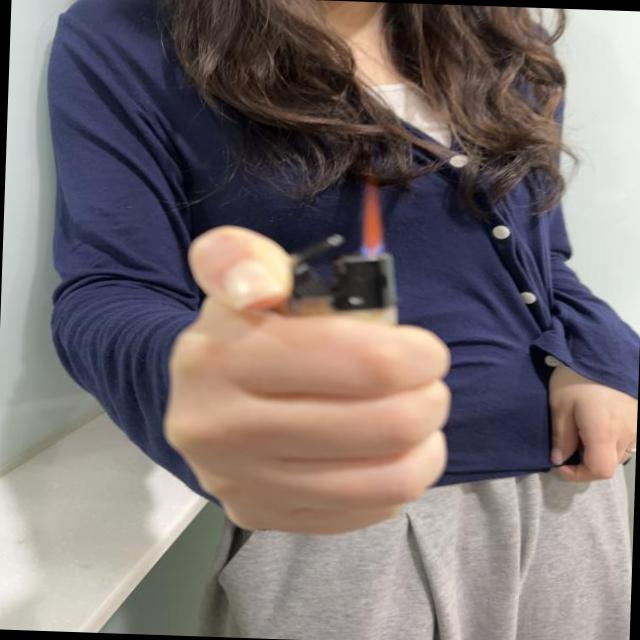Fire: (359, 182, 387, 258)
